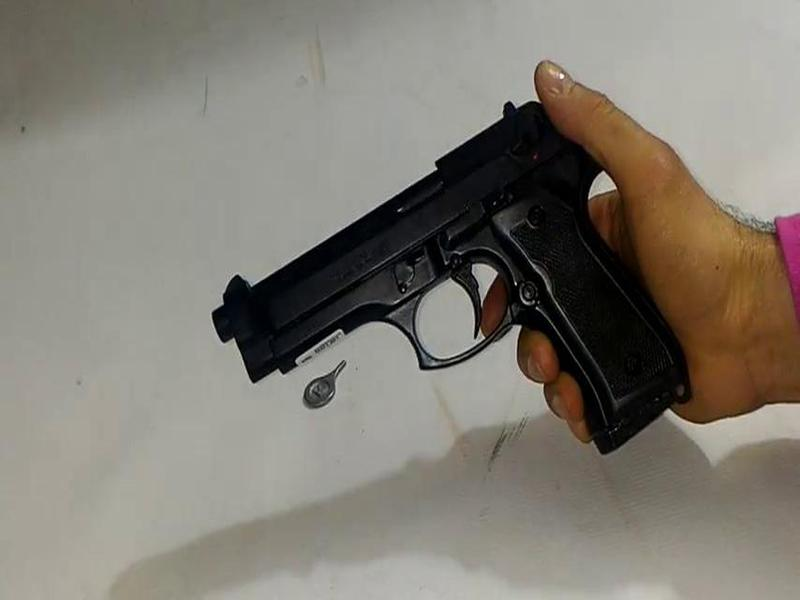Pistola: (185, 79, 724, 500)
